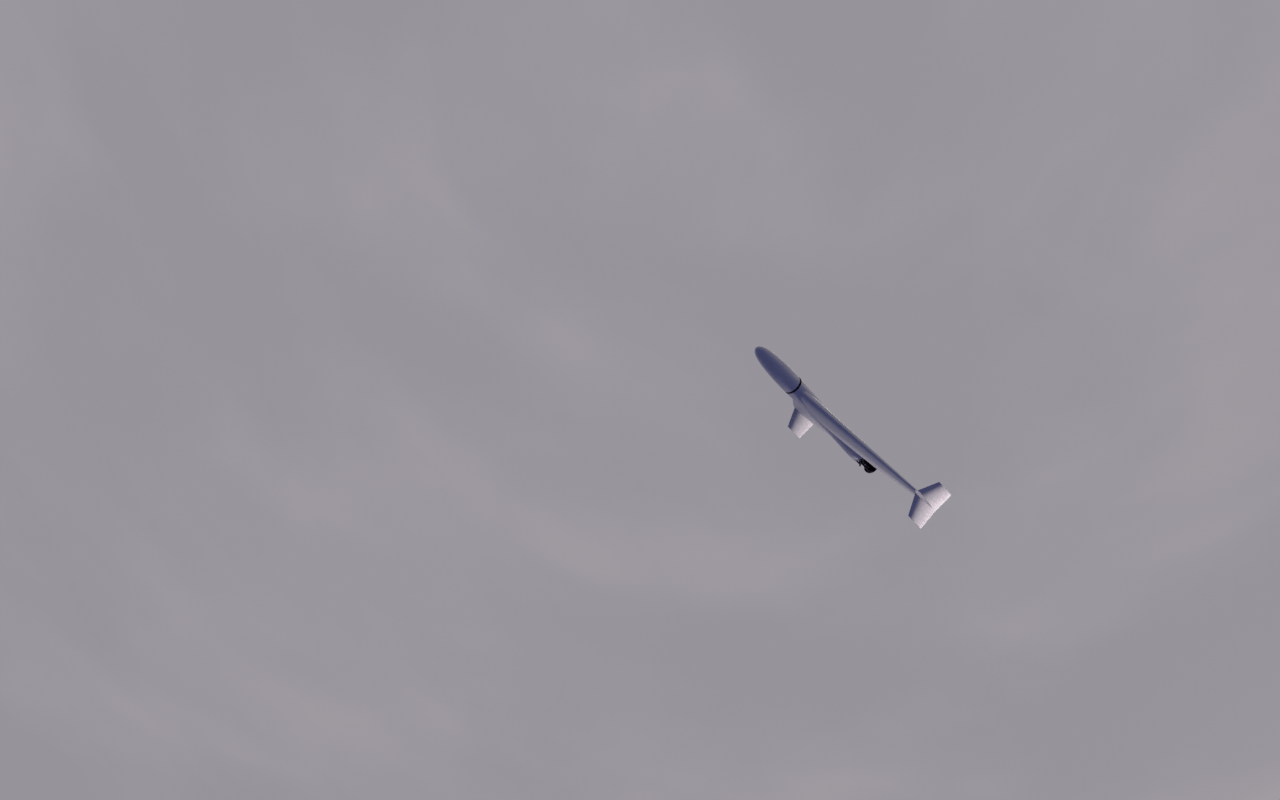shahed: (754, 346, 953, 531)
